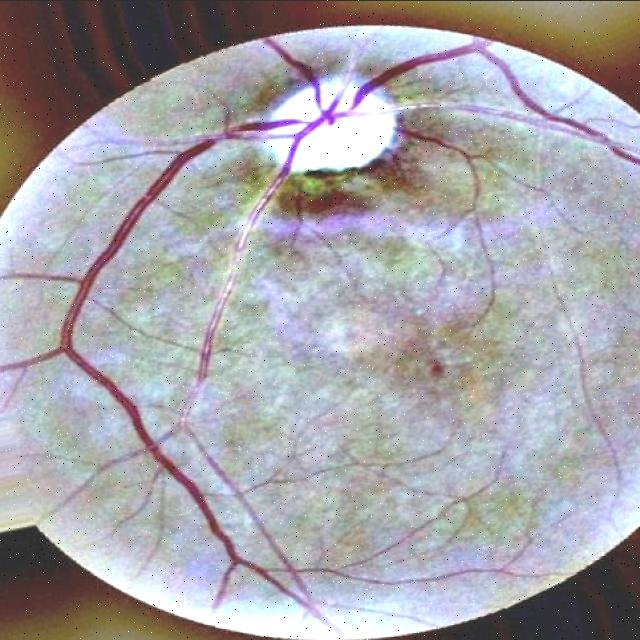Nerves: (0, 36, 640, 632), (398, 122, 481, 214)
Optic Disk: (259, 62, 397, 173)
